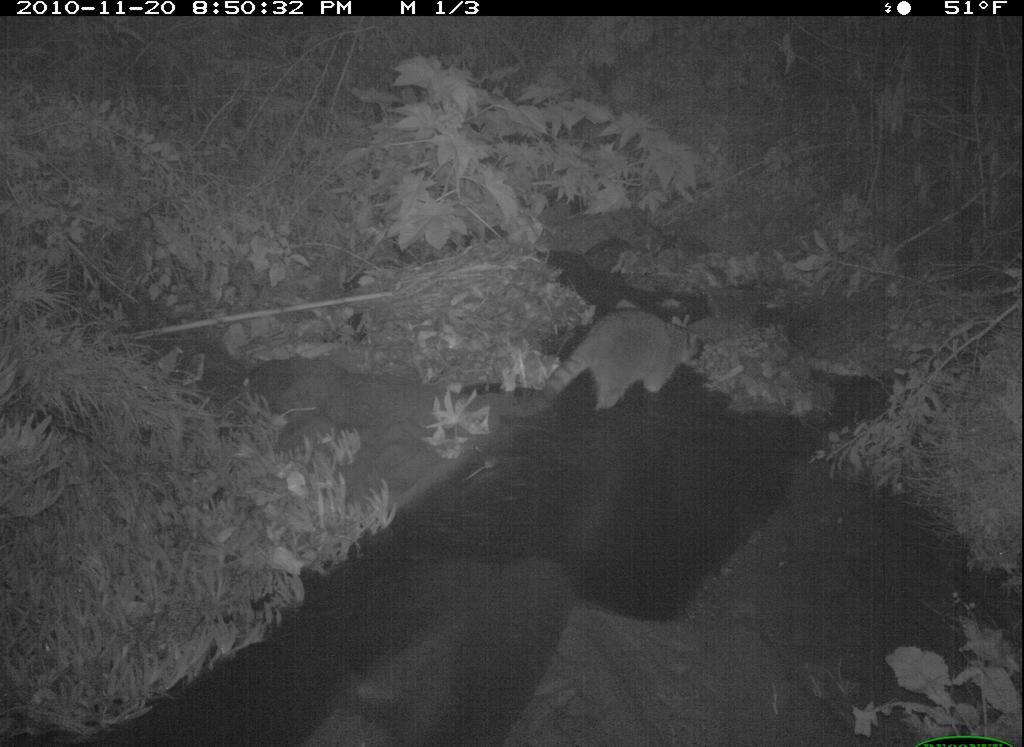raccoon: (519, 299, 724, 423)
